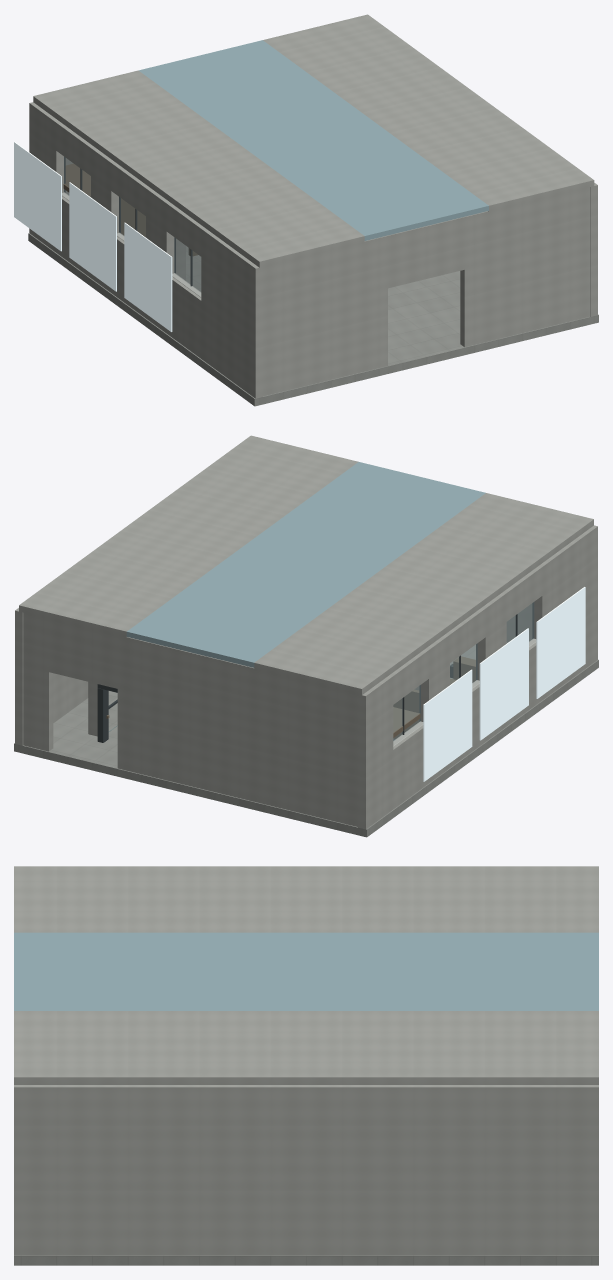
The model's file is stage.glb.
3 renders of one model, top to bottom at view 1: azimuth 30°, elevation 25°; view 2: azimuth 150°, elevation 25°; view 3: azimuth 270°, elevation 25°, orthographic. The views are drawn at different scales.
Visible parts, largest first — view 1: roof_center, roof_left, roof_right, wall_left, entrance_wall_4.3, entrance_wall_-4.3, floor, entrance_lintel, outside_daylight_4, outside_daylight_0, outside_daylight_-4, wall_right (+5 smaller); view 2: rear_wall_left, roof_center, roof_left, roof_right, wall_left, floor, outside_daylight_0, outside_daylight_-4, outside_daylight_4, rear_wall_right, exit_lintel, wall_right (+6 smaller); view 3: wall_right, roof_center, roof_right, roof_left, floor.
Part boxes in pixels (x1,y1,x2,y2): roof_center: (138, 40, 488, 240); roof_left: (33, 70, 364, 267); roof_right: (263, 14, 594, 211); wall_left: (29, 102, 263, 398); entrance_wall_4.3: (460, 187, 589, 347); entrance_wall_-4.3: (263, 235, 387, 396); floor: (28, 233, 598, 406); entrance_lintel: (388, 217, 464, 288); outside_daylight_4: (124, 222, 172, 331); outside_daylight_0: (69, 182, 116, 291); outside_daylight_-4: (14, 142, 61, 251); wall_right: (590, 183, 597, 316); rear_wall_left: (117, 635, 357, 826); roof_center: (126, 462, 485, 667); roof_left: (254, 493, 593, 694); roof_right: (19, 435, 358, 637); wall_left: (358, 525, 597, 829); floor: (14, 642, 598, 837); outside_daylight_0: (479, 628, 528, 740); outside_daylight_-4: (423, 669, 472, 781); outside_daylight_4: (536, 587, 585, 698); rear_wall_right: (23, 612, 53, 751); exit_lintel: (49, 619, 117, 688); wall_right: (15, 608, 88, 745); wall_right: (14, 1085, 598, 1255); roof_center: (14, 932, 598, 1010); roof_right: (14, 1011, 598, 1084); roof_left: (14, 866, 598, 932); floor: (14, 1255, 598, 1265).
Size of the model in its own units: 15.87 by 5.74 by 16.4.
Materials: 15 (5 with a texture image).
